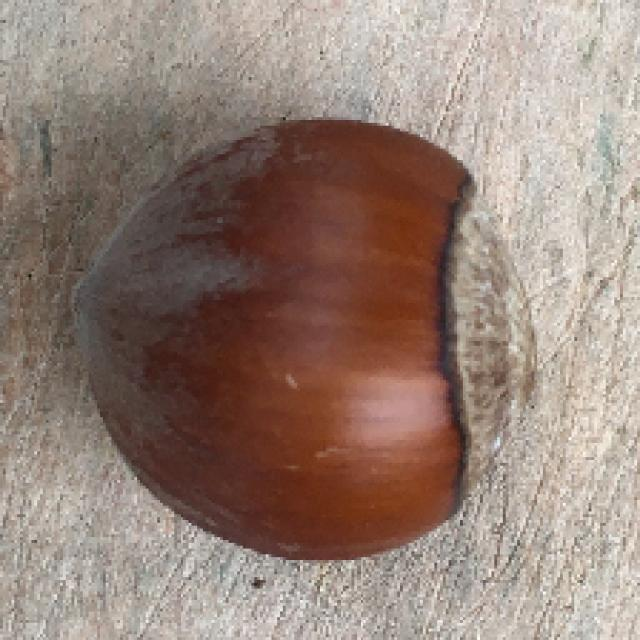qualityHazelnut: (74, 113, 538, 563)
